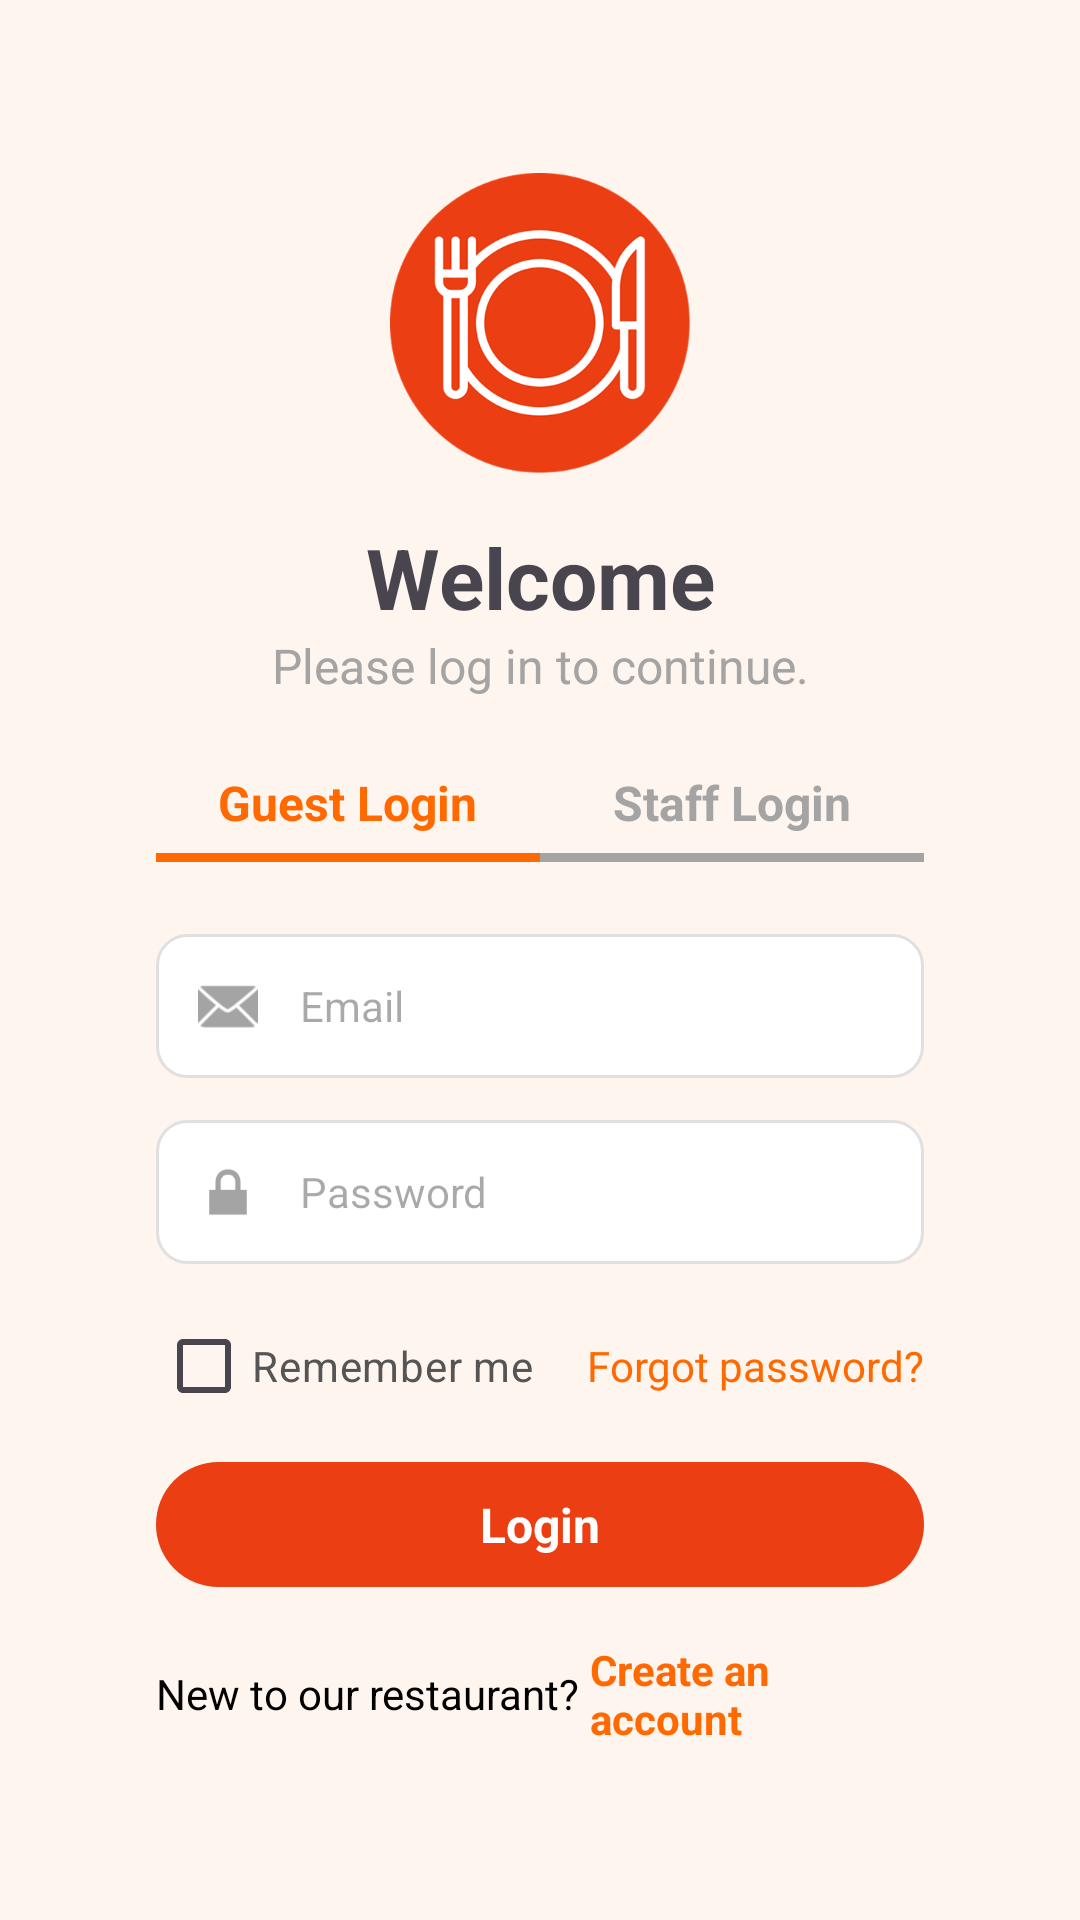

Named icons in this screenshot (1080w x 1920h) and their centers, [x,y]:
lock: [228,1192]
